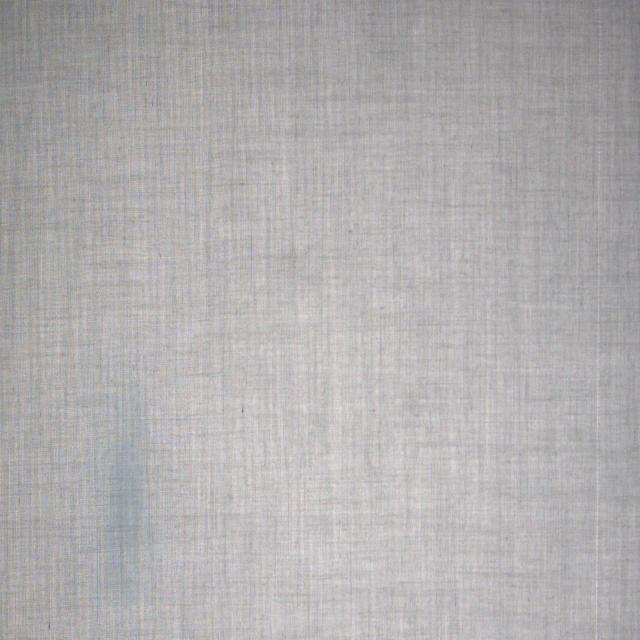dirty: (108, 412, 142, 594)
